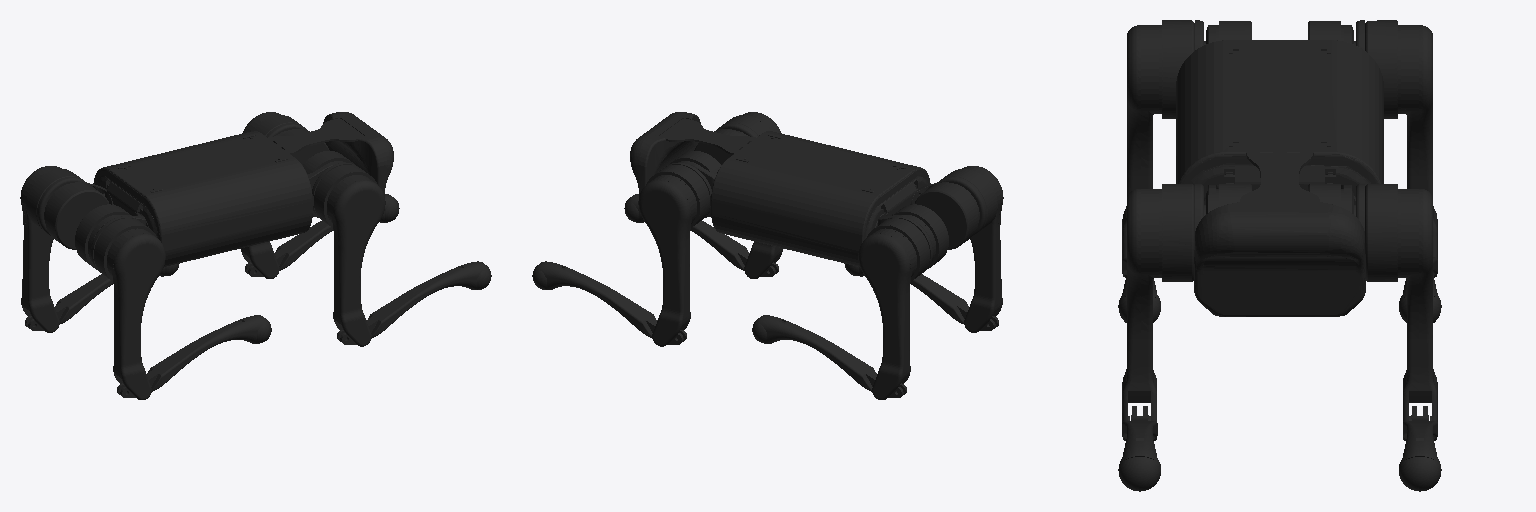
URDF robot description (a1):
<?xml version="1.0"?>
<!-- ============================================= -->
<!-- |    Copy from example-robot-data package   | -->
<!-- ============================================= -->
<robot name="a1">
  <material name="grey">
    <color rgba="0.2 0.2 0.2 1.0" />
  </material>
  <material name="silver">
    <!-- <color rgba="0.6980 0.7529 0.8392 1" /> -->
    <color rgba="0.2 0.2 0.2 1.0" />
  </material>
  <link name="base">
    <visual>
      <origin rpy="0 0 0" xyz="0 0 0" />
      <geometry>
        <box size="0.001 0.001 0.001" />
      </geometry>
    </visual>
  </link>
  <joint name="floating_base" type="fixed">
    <origin rpy="0 0 0" xyz="0 0 0" />
    <parent link="base" />
    <child link="trunk" />
  </joint>
  <link name="trunk">
    <visual>
      <origin rpy="0 0 0" xyz="0 0 0" />
      <geometry>
        <mesh filename="package://a1_description/meshes/stl/trunk.stl" scale="1 1 1" />
      </geometry>
      <material name="silver" />
    </visual>
    <collision>
      <origin rpy="0 0 0" xyz="0 0 0" />
      <geometry>
        <box size="0.26 0.19 0.11" />
      </geometry>
    </collision>
    <inertial>
      <origin rpy="0 0 0" xyz="0.0 0.0041 -0.0005" />
      <mass value="6.0" />
      <inertia ixx="0.0158533" ixy="-3.66e-05" ixz="-6.11e-05" iyy="0.0377999" iyz="-2.75e-05" izz="0.0456542" />
    </inertial>
  </link>
  <joint name="imu_joint" type="fixed">
    <parent link="trunk" />
    <child link="imu_link" />
    <origin rpy="0 0 0" xyz="0 0 0" />
  </joint>
  <link name="imu_link">
    <inertial>
      <mass value="0.001" />
      <origin rpy="0 0 0" xyz="0 0 0" />
      <inertia ixx="0.0001" ixy="0" ixz="0" iyy="0.0001" iyz="0" izz="0.0001" />
    </inertial>
    <visual>
      <origin rpy="0 0 0" xyz="0 0 0" />
      <geometry>
        <box size="0.001 0.001 0.001" />
      </geometry>
      <material name="grey" />
    </visual>
    <collision>
      <origin rpy="0 0 0" xyz="0 0 0" />
      <geometry>
        <box size=".001 .001 .001" />
      </geometry>
    </collision>
  </link>
  <joint name="FR_hip_joint" type="revolute">
    <origin rpy="0 0 0" xyz="0.1805 -0.047 0" />
    <parent link="trunk" />
    <child link="FR_hip" />
    <axis xyz="1 0 0" />
    <dynamics damping="0" friction="0" />
    <limit effort="33.5" lower="-0.8028514559173915" upper="0.8028514559173915" velocity="21" />
  </joint>
  <link name="FR_hip">
    <visual>
      <origin rpy="3.141592653589793 0 0" xyz="0 0 0" />
      <geometry>
        <mesh filename="package://a1_description/meshes/stl/hip.stl" scale="1 1 1" />
      </geometry>
      <material name="silver" />
    </visual>
    <collision>
      <origin rpy="0 0 0" xyz="0 -0.05 0" />
      <geometry>
        <sphere radius="0.06" />
      </geometry>
    </collision>
    <inertial>
      <origin rpy="0 0 0" xyz="-0.003311 -0.000635 3.1e-05" />
      <mass value="0.696" />
      <inertia ixx="0.000469246" ixy="9.409e-06" ixz="-3.42e-07" iyy="0.00080749" iyz="4.66e-07" izz="0.000552929" />
    </inertial>
  </link>
  <joint name="FR_thigh_joint" type="revolute">
    <origin rpy="0 0 0" xyz="0 -0.0838 0" />
    <parent link="FR_hip" />
    <child link="FR_thigh" />
    <axis xyz="0 1 0" />
    <dynamics damping="0" friction="0" />
    <limit effort="33.5" lower="-1.0471975511965976" upper="4.1887902047863905" velocity="21" />
  </joint>
  <link name="FR_thigh">
    <visual>
      <origin rpy="0 0 0" xyz="0 0 0" />
      <geometry>
        <mesh filename="package://a1_description/meshes/stl/thigh_mirror.stl" scale="1 1 1" />
      </geometry>
      <material name="silver" />
    </visual>
    <collision>
      <origin rpy="0 0 0" xyz="0 0 -0.195" />
      <geometry>
        <sphere radius="0.03" />
      </geometry>
    </collision>
    <inertial>
      <origin rpy="0 0 0" xyz="-0.003237 0.022327 -0.027326" />
      <mass value="1.013" />
      <inertia ixx="0.005529065" ixy="-4.825e-06" ixz="0.000343869" iyy="0.005139339" iyz="-2.2448e-05" izz="0.001367788" />
    </inertial>
  </link>
  <joint name="FR_calf_joint" type="revolute">
    <origin rpy="0 0 0" xyz="0 0 -0.2" />
    <parent link="FR_thigh" />
    <child link="FR_calf" />
    <axis xyz="0 1 0" />
    <dynamics damping="0" friction="0" />
    <limit effort="33.5" lower="-2.6965336943312392" upper="-0.9162978572970231" velocity="21" />
  </joint>
  <link name="FR_calf">
    <visual>
      <origin rpy="0 0 0" xyz="0 0 0" />
      <geometry>
        <mesh filename="package://a1_description/meshes/stl/calf.stl" scale="1 1 1" />
      </geometry>
      <material name="grey" />
    </visual>
    <!-- <collision>
      <origin rpy="0 1.5707963267948966 0" xyz="0 0 -0.1" />
      <geometry>
        <box size="0.2 0.016 0.016" />
      </geometry>
    </collision> -->
    <inertial>
      <origin rpy="0 0 0" xyz="0.006435 0.0 -0.107388" />
      <mass value="0.166" />
      <inertia ixx="0.002997972" ixy="0.0" ixz="-0.000141163" iyy="0.003014022" iyz="0.0" izz="3.2426e-05" />
    </inertial>
  </link>
  <joint name="FR_foot_fixed" type="fixed">
    <origin rpy="0 0 0" xyz="0 0 -0.2" />
    <parent link="FR_calf" />
    <child link="FR_foot" />
  </joint>
  <link name="FR_foot">
    <visual>
      <origin rpy="0 0 0" xyz="0 0 0" />
      <geometry>
        <sphere radius="0.01" />
      </geometry>
      <material name="grey" />
    </visual>
    <collision>
      <origin rpy="0 0 0" xyz="0 0 0" />
      <geometry>
        <sphere radius="0.02" />
      </geometry>
    </collision>
    <inertial>
      <mass value="0.06" />
      <inertia ixx="9.600000000000001e-06" ixy="0.0" ixz="0.0" iyy="9.600000000000001e-06" iyz="0.0" izz="9.600000000000001e-06" />
    </inertial>
  </link>
  <joint name="FL_hip_joint" type="revolute">
    <origin rpy="0 0 0" xyz="0.1805 0.047 0" />
    <parent link="trunk" />
    <child link="FL_hip" />
    <axis xyz="1 0 0" />
    <dynamics damping="0" friction="0" />
    <limit effort="33.5" lower="-0.8028514559173915" upper="0.8028514559173915" velocity="21" />
  </joint>
  <link name="FL_hip">
    <visual>
      <origin rpy="0 0 0" xyz="0 0 0" />
      <geometry>
        <mesh filename="package://a1_description/meshes/stl/hip.stl" scale="1 1 1" />
      </geometry>
      <material name="silver" />
    </visual>
    <collision>
      <origin rpy="0 0 0" xyz="0 0.05 0" />
      <geometry>
        <sphere radius="0.06" />
      </geometry>
    </collision>
    <inertial>
      <origin rpy="0 0 0" xyz="-0.003311 0.000635 3.1e-05" />
      <mass value="0.696" />
      <inertia ixx="0.000469246" ixy="-9.409e-06" ixz="-3.42e-07" iyy="0.00080749" iyz="-4.66e-07" izz="0.000552929" />
    </inertial>
  </link>
  <joint name="FL_thigh_joint" type="revolute">
    <origin rpy="0 0 0" xyz="0 0.0838 0" />
    <parent link="FL_hip" />
    <child link="FL_thigh" />
    <axis xyz="0 1 0" />
    <dynamics damping="0" friction="0" />
    <limit effort="33.5" lower="-1.0471975511965976" upper="4.1887902047863905" velocity="21" />
  </joint>
  <link name="FL_thigh">
    <visual>
      <origin rpy="0 0 0" xyz="0 0 0" />
      <geometry>
        <mesh filename="package://a1_description/meshes/stl/thigh.stl" scale="1 1 1" />
      </geometry>
      <material name="silver" />
    </visual>
    <collision>
      <origin rpy="0 0 0" xyz="0 0 -0.195" />
      <geometry>
        <sphere radius="0.03" />
      </geometry>
    </collision>
    <inertial>
      <origin rpy="0 0 0" xyz="-0.003237 -0.022327 -0.027326" />
      <mass value="1.013" />
      <inertia ixx="0.005529065" ixy="4.825e-06" ixz="0.000343869" iyy="0.005139339" iyz="2.2448e-05" izz="0.001367788" />
    </inertial>
  </link>
  <joint name="FL_calf_joint" type="revolute">
    <origin rpy="0 0 0" xyz="0 0 -0.2" />
    <parent link="FL_thigh" />
    <child link="FL_calf" />
    <axis xyz="0 1 0" />
    <dynamics damping="0" friction="0" />
    <limit effort="33.5" lower="-2.6965336943312392" upper="-0.9162978572970231" velocity="21" />
  </joint>
  <link name="FL_calf">
    <visual>
      <origin rpy="0 0 0" xyz="0 0 0" />
      <geometry>
        <mesh filename="package://a1_description/meshes/stl/calf.stl" scale="1 1 1" />
      </geometry>
      <material name="grey" />
    </visual>
    <!-- <collision>
      <origin rpy="0 1.5707963267948966 0" xyz="0 0 -0.1" />
      <geometry>
        <box size="0.2 0.016 0.016" />
      </geometry>
    </collision> -->
    <inertial>
      <origin rpy="0 0 0" xyz="0.006435 0.0 -0.107388" />
      <mass value="0.166" />
      <inertia ixx="0.002997972" ixy="0.0" ixz="-0.000141163" iyy="0.003014022" iyz="0.0" izz="3.2426e-05" />
    </inertial>
  </link>
  <joint name="FL_foot_fixed" type="fixed">
    <origin rpy="0 0 0" xyz="0 0 -0.2" />
    <parent link="FL_calf" />
    <child link="FL_foot" />
  </joint>
  <link name="FL_foot">
    <visual>
      <origin rpy="0 0 0" xyz="0 0 0" />
      <geometry>
        <sphere radius="0.01" />
      </geometry>
      <material name="grey" />
    </visual>
    <collision>
      <origin rpy="0 0 0" xyz="0 0 0" />
      <geometry>
        <sphere radius="0.02" />
      </geometry>
    </collision>
    <inertial>
      <mass value="0.06" />
      <inertia ixx="9.600000000000001e-06" ixy="0.0" ixz="0.0" iyy="9.600000000000001e-06" iyz="0.0" izz="9.600000000000001e-06" />
    </inertial>
  </link>
  <joint name="RR_hip_joint" type="revolute">
    <origin rpy="0 0 0" xyz="-0.1805 -0.047 0" />
    <parent link="trunk" />
    <child link="RR_hip" />
    <axis xyz="1 0 0" />
    <dynamics damping="0" friction="0" />
    <limit effort="33.5" lower="-0.8028514559173915" upper="0.8028514559173915" velocity="21" />
  </joint>
  <link name="RR_hip">
    <visual>
      <origin rpy="3.141592653589793 3.141592653589793 0" xyz="0 0 0" />
      <geometry>
        <mesh filename="package://a1_description/meshes/stl/hip.stl" scale="1 1 1" />
      </geometry>
      <material name="silver" />
    </visual>
    <collision>
      <origin rpy="0 0 0" xyz="0 -0.05 0" />
      <geometry>
        <sphere radius="0.06" />
      </geometry>
    </collision>
    <inertial>
      <origin rpy="0 0 0" xyz="0.003311 -0.000635 3.1e-05" />
      <mass value="0.696" />
      <inertia ixx="0.000469246" ixy="-9.409e-06" ixz="3.42e-07" iyy="0.00080749" iyz="4.66e-07" izz="0.000552929" />
    </inertial>
  </link>
  <joint name="RR_thigh_joint" type="revolute">
    <origin rpy="0 0 0" xyz="0 -0.0838 0" />
    <parent link="RR_hip" />
    <child link="RR_thigh" />
    <axis xyz="0 1 0" />
    <dynamics damping="0" friction="0" />
    <limit effort="33.5" lower="-1.0471975511965976" upper="4.1887902047863905" velocity="21" />
  </joint>
  <link name="RR_thigh">
    <visual>
      <origin rpy="0 0 0" xyz="0 0 0" />
      <geometry>
        <mesh filename="package://a1_description/meshes/stl/thigh_mirror.stl" scale="1 1 1" />
      </geometry>
      <material name="silver" />
    </visual>
    <collision>
      <origin rpy="0 0 0" xyz="0 0 -0.195" />
      <geometry>
        <sphere radius="0.03" />
      </geometry>
    </collision>
    <inertial>
      <origin rpy="0 0 0" xyz="-0.003237 0.022327 -0.027326" />
      <mass value="1.013" />
      <inertia ixx="0.005529065" ixy="-4.825e-06" ixz="0.000343869" iyy="0.005139339" iyz="-2.2448e-05" izz="0.001367788" />
    </inertial>
  </link>
  <joint name="RR_calf_joint" type="revolute">
    <origin rpy="0 0 0" xyz="0 0 -0.2" />
    <parent link="RR_thigh" />
    <child link="RR_calf" />
    <axis xyz="0 1 0" />
    <dynamics damping="0" friction="0" />
    <limit effort="33.5" lower="-2.6965336943312392" upper="-0.9162978572970231" velocity="21" />
  </joint>
  <link name="RR_calf">
    <visual>
      <origin rpy="0 0 0" xyz="0 0 0" />
      <geometry>
        <mesh filename="package://a1_description/meshes/stl/calf.stl" scale="1 1 1" />
      </geometry>
      <material name="grey" />
    </visual>
    <!-- <collision>
      <origin rpy="0 1.5707963267948966 0" xyz="0 0 -0.1" />
      <geometry>
        <box size="0.2 0.016 0.016" />
      </geometry>
    </collision> -->
    <inertial>
      <origin rpy="0 0 0" xyz="0.006435 0.0 -0.107388" />
      <mass value="0.166" />
      <inertia ixx="0.002997972" ixy="0.0" ixz="-0.000141163" iyy="0.003014022" iyz="0.0" izz="3.2426e-05" />
    </inertial>
  </link>
  <joint name="RR_foot_fixed" type="fixed">
    <origin rpy="0 0 0" xyz="0 0 -0.2" />
    <parent link="RR_calf" />
    <child link="RR_foot" />
  </joint>
  <link name="RR_foot">
    <visual>
      <origin rpy="0 0 0" xyz="0 0 0" />
      <geometry>
        <sphere radius="0.01" />
      </geometry>
      <material name="grey" />
    </visual>
    <collision>
      <origin rpy="0 0 0" xyz="0 0 0" />
      <geometry>
        <sphere radius="0.02" />
      </geometry>
    </collision>
    <inertial>
      <mass value="0.06" />
      <inertia ixx="9.600000000000001e-06" ixy="0.0" ixz="0.0" iyy="9.600000000000001e-06" iyz="0.0" izz="9.600000000000001e-06" />
    </inertial>
  </link>
  <joint name="RL_hip_joint" type="revolute">
    <origin rpy="0 0 0" xyz="-0.1805 0.047 0" />
    <parent link="trunk" />
    <child link="RL_hip" />
    <axis xyz="1 0 0" />
    <dynamics damping="0" friction="0" />
    <limit effort="33.5" lower="-0.8028514559173915" upper="0.8028514559173915" velocity="21" />
  </joint>
  <link name="RL_hip">
    <visual>
      <origin rpy="0 3.141592653589793 0" xyz="0 0 0" />
      <geometry>
        <mesh filename="package://a1_description/meshes/stl/hip.stl" scale="1 1 1" />
      </geometry>
      <material name="silver" />
    </visual>
    <collision>
      <origin rpy="0 0 0" xyz="0 0.05 0" />
      <geometry>
        <sphere radius="0.06" />
      </geometry>
    </collision>
    <inertial>
      <origin rpy="0 0 0" xyz="0.003311 0.000635 3.1e-05" />
      <mass value="0.696" />
      <inertia ixx="0.000469246" ixy="9.409e-06" ixz="3.42e-07" iyy="0.00080749" iyz="-4.66e-07" izz="0.000552929" />
    </inertial>
  </link>
  <joint name="RL_thigh_joint" type="revolute">
    <origin rpy="0 0 0" xyz="0 0.0838 0" />
    <parent link="RL_hip" />
    <child link="RL_thigh" />
    <axis xyz="0 1 0" />
    <dynamics damping="0" friction="0" />
    <limit effort="33.5" lower="-1.0471975511965976" upper="4.1887902047863905" velocity="21" />
  </joint>
  <link name="RL_thigh">
    <visual>
      <origin rpy="0 0 0" xyz="0 0 0" />
      <geometry>
        <mesh filename="package://a1_description/meshes/stl/thigh.stl" scale="1 1 1" />
      </geometry>
      <material name="silver" />
    </visual>
    <collision>
      <origin rpy="0 0 0" xyz="0 0 -0.195" />
      <geometry>
        <sphere radius="0.03" />
      </geometry>
    </collision>
    <inertial>
      <origin rpy="0 0 0" xyz="-0.003237 -0.022327 -0.027326" />
      <mass value="1.013" />
      <inertia ixx="0.005529065" ixy="4.825e-06" ixz="0.000343869" iyy="0.005139339" iyz="2.2448e-05" izz="0.001367788" />
    </inertial>
  </link>
  <joint name="RL_calf_joint" type="revolute">
    <origin rpy="0 0 0" xyz="0 0 -0.2" />
    <parent link="RL_thigh" />
    <child link="RL_calf" />
    <axis xyz="0 1 0" />
    <dynamics damping="0" friction="0" />
    <limit effort="33.5" lower="-2.6965336943312392" upper="-0.9162978572970231" velocity="21" />
  </joint>
  <link name="RL_calf">
    <visual>
      <origin rpy="0 0 0" xyz="0 0 0" />
      <geometry>
        <mesh filename="package://a1_description/meshes/stl/calf.stl" scale="1 1 1" />
      </geometry>
      <material name="grey" />
    </visual>
    <!-- <collision>
      <origin rpy="0 1.5707963267948966 0" xyz="0 0 -0.1" />
      <geometry>
        <box size="0.2 0.016 0.016" />
      </geometry>
    </collision> -->
    <inertial>
      <origin rpy="0 0 0" xyz="0.006435 0.0 -0.107388" />
      <mass value="0.166" />
      <inertia ixx="0.002997972" ixy="0.0" ixz="-0.000141163" iyy="0.003014022" iyz="0.0" izz="3.2426e-05" />
    </inertial>
  </link>
  <joint name="RL_foot_fixed" type="fixed">
    <origin rpy="0 0 0" xyz="0 0 -0.2" />
    <parent link="RL_calf" />
    <child link="RL_foot" />
  </joint>
  <link name="RL_foot">
    <visual>
      <origin rpy="0 0 0" xyz="0 0 0" />
      <geometry>
        <sphere radius="0.01" />
      </geometry>
      <material name="grey" />
    </visual>
    <collision>
      <origin rpy="0 0 0" xyz="0 0 0" />
      <geometry>
        <sphere radius="0.02" />
      </geometry>
    </collision>
    <inertial>
      <mass value="0.06" />
      <inertia ixx="9.600000000000001e-06" ixy="0.0" ixz="0.0" iyy="9.600000000000001e-06" iyz="0.0" izz="9.600000000000001e-06" />
    </inertial>
  </link>
</robot>

--- Render facts (derived) ---
Views: 3 orthographic renders of the robot side by side, from view 1: azimuth 30°, elevation 25°; view 2: azimuth 150°, elevation 25°; view 3: azimuth 270°, elevation 25°.
Model a1 with 19 links and 18 joints (12 revolute, 6 fixed), rooted at base, posed all joints at 0 but 4 set to mid-range because 0 is outside their limits (FR_calf_joint = -1.81, FL_calf_joint = -1.81, RR_calf_joint = -1.81, RL_calf_joint = -1.81).
Visible links, largest first — view 1: trunk, RR_thigh, FR_thigh, RL_thigh, RR_calf, FR_calf, RL_hip, FL_thigh, FL_calf, RL_calf, RR_hip, FR_hip; view 2: trunk, RL_thigh, FL_thigh, RR_thigh, RL_calf, FL_calf, RR_hip, FR_thigh, FR_calf, RR_calf, RL_hip, FL_hip; view 3: trunk, FL_thigh, FR_thigh, RR_thigh, RL_thigh, FR_calf, FL_calf, FR_hip, FL_hip, RR_hip, RL_hip, RR_calf (+1 smaller).
Link boxes in pixels (x1,y1,x2,y2): trunk: (93, 112, 393, 266); RR_thigh: (91, 216, 165, 399); FR_thigh: (312, 163, 385, 346); RL_thigh: (20, 166, 86, 332); RR_calf: (117, 315, 271, 397); FR_calf: (337, 261, 491, 344); RL_hip: (44, 182, 113, 249); FL_thigh: (241, 112, 306, 278); FL_calf: (245, 194, 399, 276); RL_calf: (25, 263, 179, 330); RR_hip: (75, 204, 145, 269); FR_hip: (303, 151, 353, 217); trunk: (630, 112, 930, 266); RL_thigh: (858, 216, 932, 399); FL_thigh: (638, 163, 711, 346); RR_thigh: (937, 166, 1003, 332); RL_calf: (752, 315, 906, 397); FL_calf: (532, 261, 686, 344); RR_hip: (910, 182, 979, 249); FR_thigh: (717, 112, 782, 278); FR_calf: (624, 194, 778, 276); RR_calf: (844, 263, 998, 330); RL_hip: (878, 204, 948, 268); FL_hip: (670, 151, 720, 217); trunk: (1176, 40, 1383, 316); FL_thigh: (1354, 184, 1437, 440); FR_thigh: (1122, 184, 1205, 440); RR_thigh: (1122, 20, 1205, 277); RL_thigh: (1354, 20, 1437, 277); FR_calf: (1118, 406, 1160, 491); FL_calf: (1399, 406, 1441, 491); FR_hip: (1206, 184, 1251, 213); FL_hip: (1308, 184, 1353, 213); RR_hip: (1206, 21, 1251, 43); RL_hip: (1308, 21, 1353, 43); RR_calf: (1118, 257, 1160, 322).
Size in the robot's own frame: 0.6215 by 0.3016 by 0.272 metres.
Meshes: 5 distinct files referenced, 13 mesh visuals loaded (5 binary STL).
